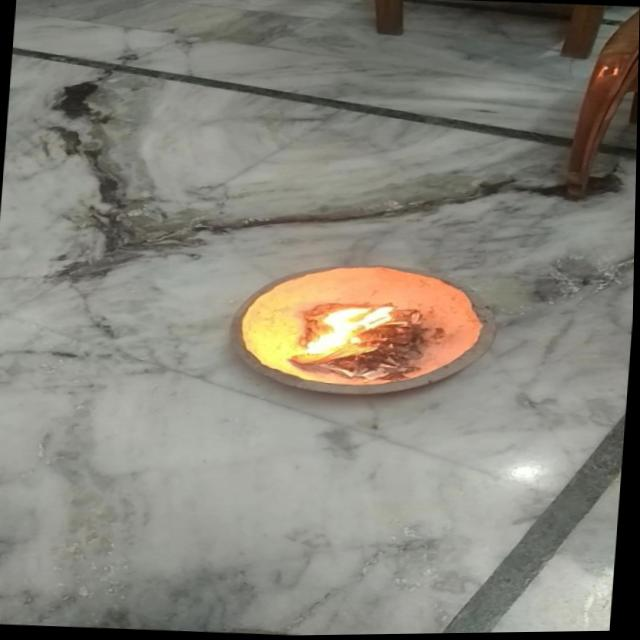fire: (296, 298, 408, 368)
